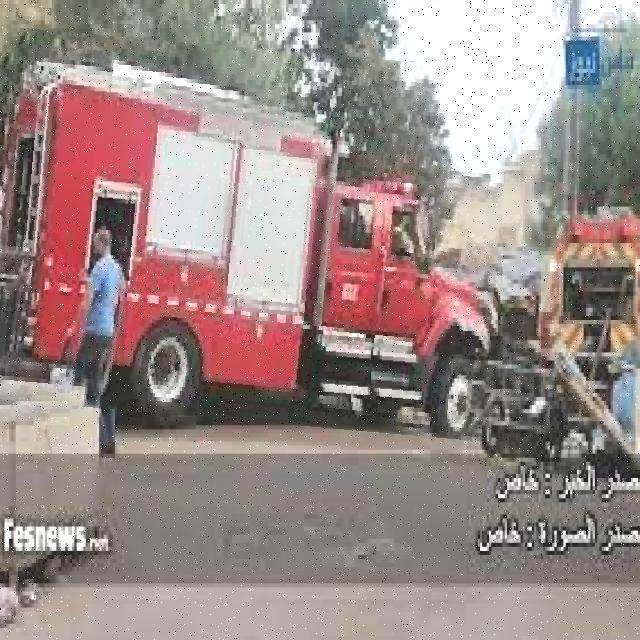pompier: (0, 38, 505, 431)
